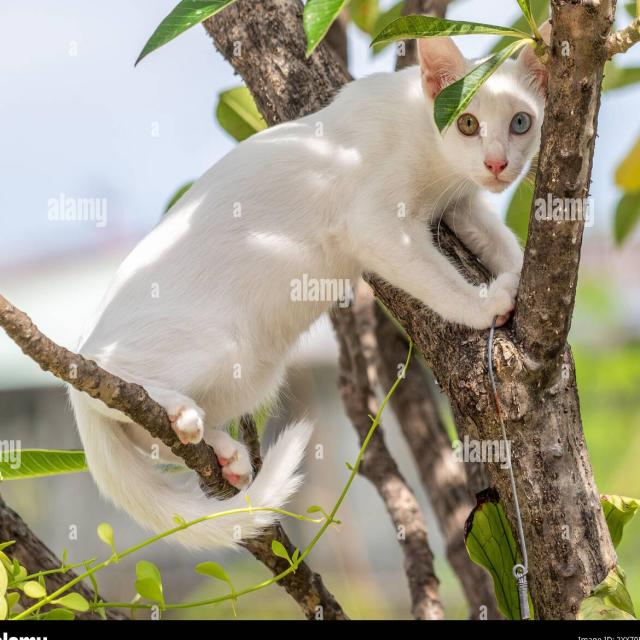Khao Manee: (66, 16, 556, 554)
